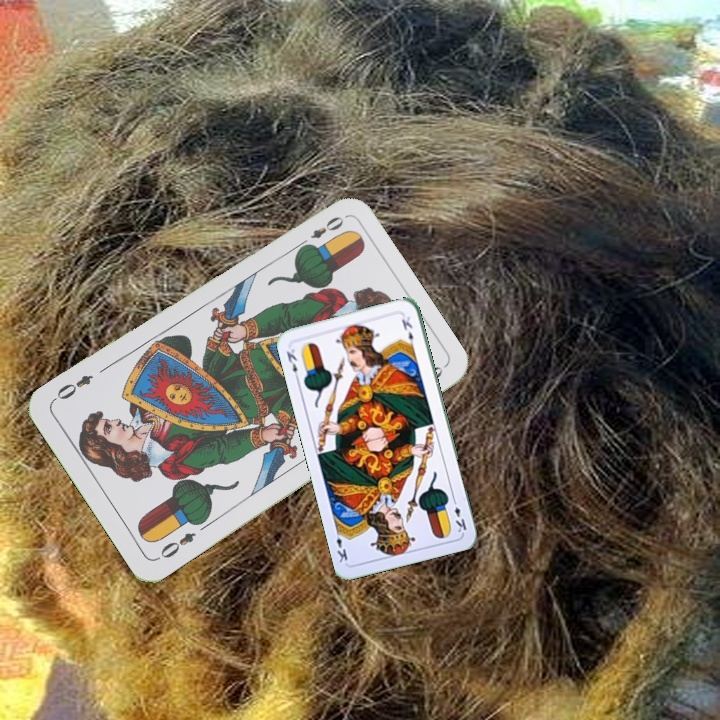EK: (449, 494, 469, 535), (282, 342, 301, 382)
EO: (293, 212, 347, 251), (156, 528, 199, 561)
